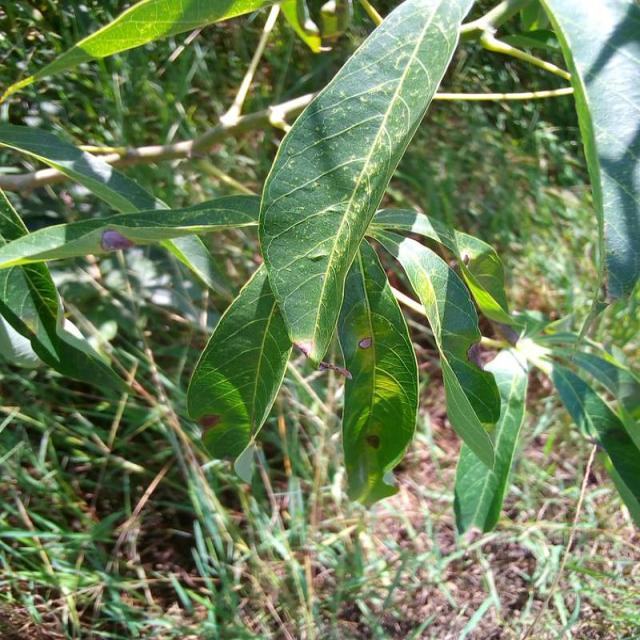cassava leaf: (256, 0, 474, 366), (538, 0, 640, 302), (395, 235, 501, 469), (185, 259, 293, 484), (334, 235, 420, 508), (452, 347, 528, 538)
